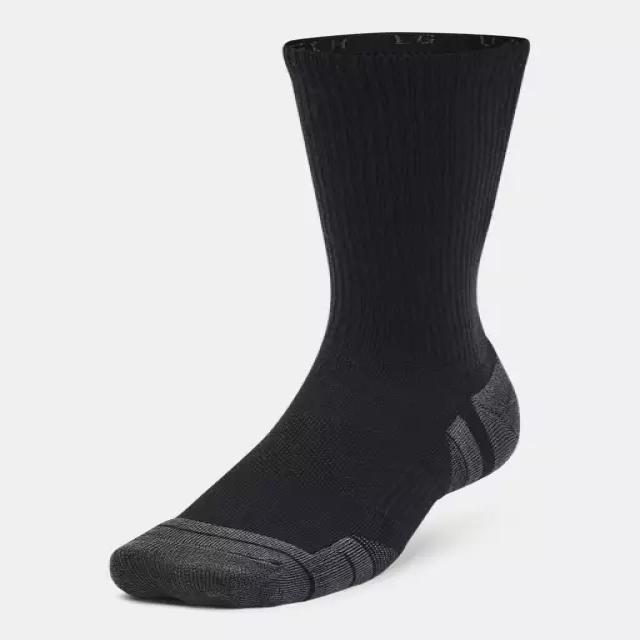sock: (108, 31, 528, 608)
